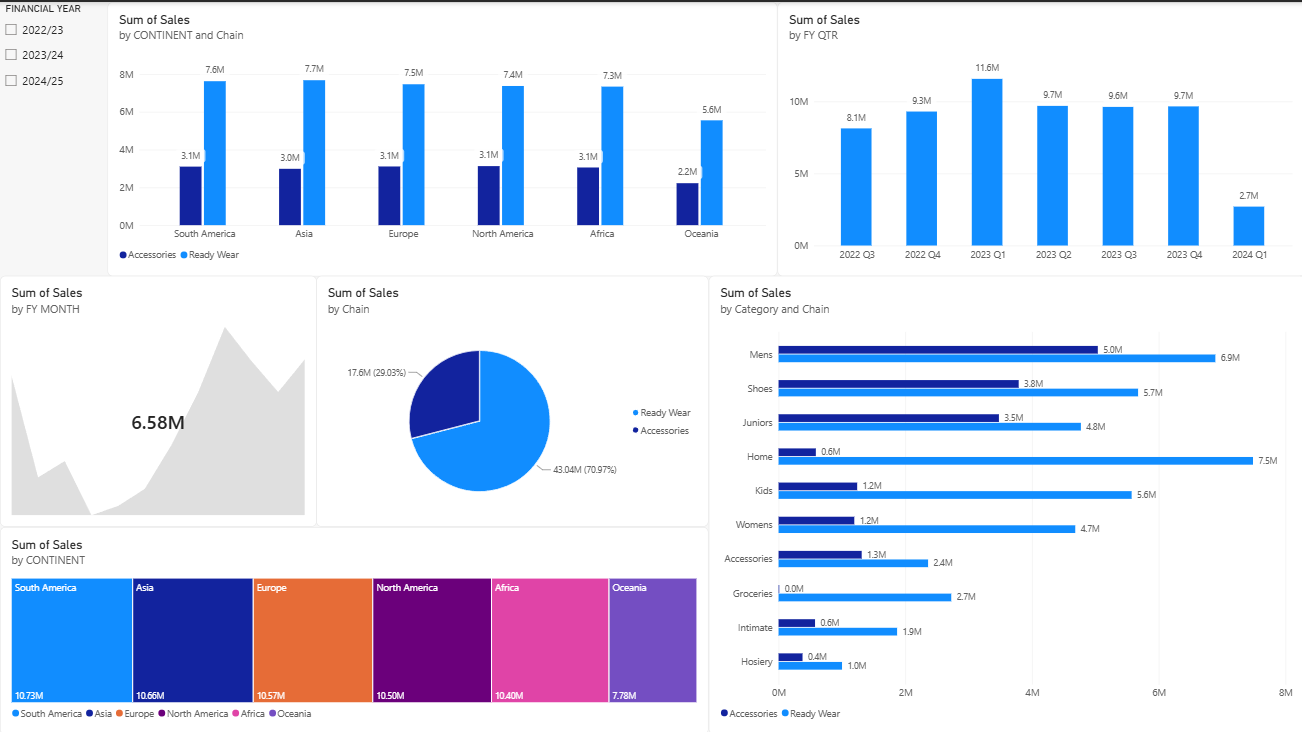

The page's visual inventory and layout, read from the dashboard file:
{"tool":"powerbi","page":{"name":"Page 1","canvas":[1920,1080],"ordinal":0},"visuals":[{"type":"lineClusteredColumnComboChart","fields":{"Category":["Country_Mapping.CONTINENT"],"Series":["Sales.Chain"],"Y":["Sum(Sales.Sales)"]},"box":[158.5,0,986.8,403.8],"z":0},{"type":"lineClusteredColumnComboChart","fields":{"Category":["Date_Mapping.FY QTR"],"Y":["Sum(Sales.Sales)"]},"box":[1145.3,0,775.5,403.8],"z":1000},{"type":"slicer","fields":{"Values":["Date_Mapping.FINANCIAL YEAR"]},"box":[0,1.8,158.3,403.1],"z":2000},{"type":"treemap","fields":{"Group":["Country_Mapping.CONTINENT"],"Values":["Sum(Sales.Sales)"]},"box":[0,773.6,1043.4,305.7],"z":2001},{"type":"clusteredBarChart","fields":{"Category":["Sales.Category"],"Series":["Sales.Chain"],"Y":["Sum(Sales.Sales)"]},"box":[1043.4,403.8,877.4,675.5],"z":2002},{"type":"pieChart","fields":{"Category":["Sales.Chain"],"Y":["Sum(Sales.Sales)"]},"box":[466,403.8,577.4,369.8],"z":2003},{"type":"kpi","fields":{"Indicator":["Sum(Sales.Sales)"],"TrendLine":["Date_Mapping.FY MONTH"]},"box":[0,403.8,466,369.8],"z":2005}]}

Visuals, with their boxes in screenshot pixels (x1, y1, x2, y2), scaled from the page's 1920x1080 canvas onto the 1302x732 screenshot:
lineClusteredColumnComboChart - Country_Mapping.CONTINENT x Sales.Chain: rect(107, 0, 777, 274)
lineClusteredColumnComboChart - Date_Mapping.FY QTR x Sum(Sales.Sales): rect(777, 0, 1301, 274)
slicer - Date_Mapping.FINANCIAL YEAR: rect(0, 1, 107, 274)
treemap - Country_Mapping.CONTINENT x Sum(Sales.Sales): rect(0, 524, 708, 731)
clusteredBarChart - Sales.Category x Sales.Chain: rect(708, 274, 1301, 731)
pieChart - Sales.Chain x Sum(Sales.Sales): rect(316, 274, 708, 524)
kpi - Sum(Sales.Sales) x Date_Mapping.FY MONTH: rect(0, 274, 316, 524)
